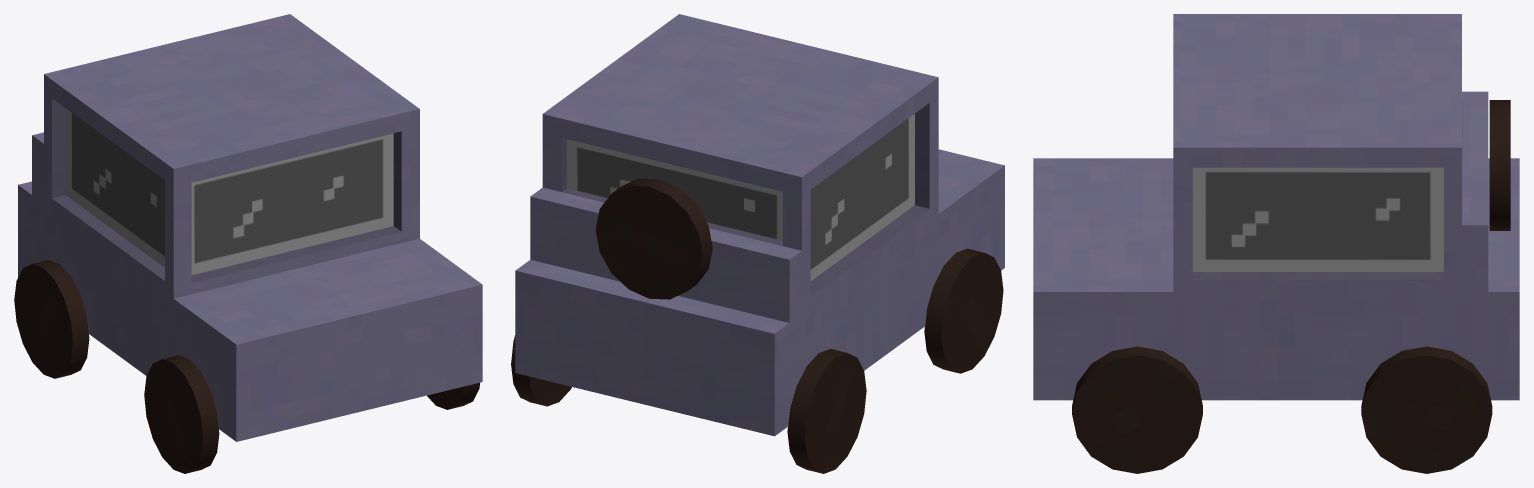
Rendered from Car 5.fbx.
The picture shows the model from 3 angles, left to right: view 1: azimuth 30°, elevation 25°; view 2: azimuth 150°, elevation 25°; view 3: azimuth 270°, elevation 25°; orthographic projection. The views are drawn at different scales.
Visible parts, largest first — view 1: Car 5; view 2: Car 5; view 3: Car 5.
Part boxes in pixels (bbox=[...]): Car 5: bbox=[14, 14, 482, 473]; Car 5: bbox=[511, 14, 1004, 473]; Car 5: bbox=[1033, 14, 1519, 473].
Size of the model in its own units: 226 by 221 by 307.
